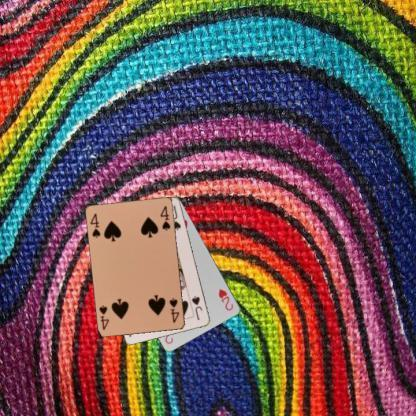2h: (216, 287, 235, 312)
4s: (88, 210, 102, 240), (167, 296, 181, 324)
Js: (190, 294, 204, 322)
